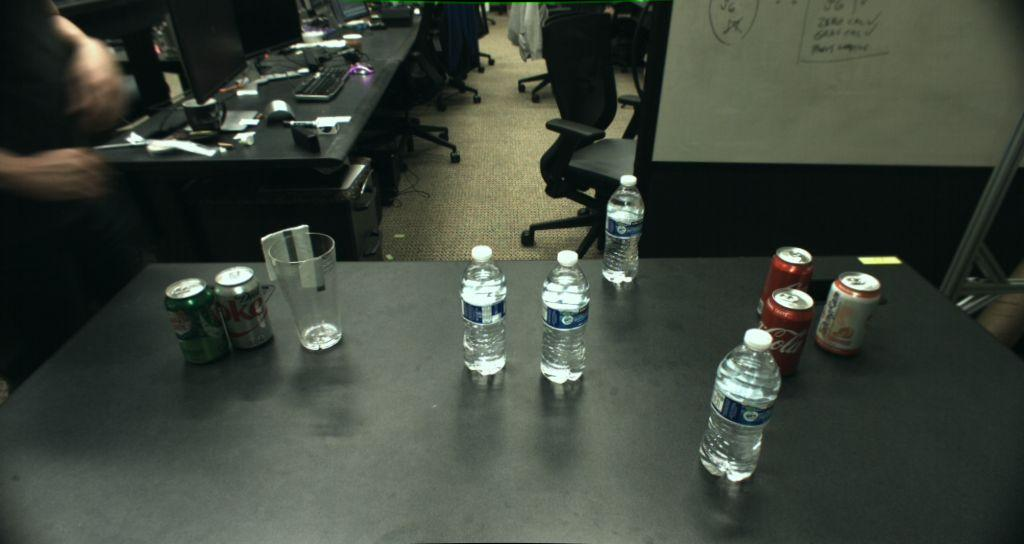can_diet_coke: (215, 264, 275, 350)
can_ginger_ale: (165, 277, 230, 365)
can_talking_rain_peach_nectarine: (813, 269, 882, 358)
water_bottle: (699, 327, 781, 482), (540, 250, 590, 383), (460, 245, 506, 376), (601, 174, 644, 284)
